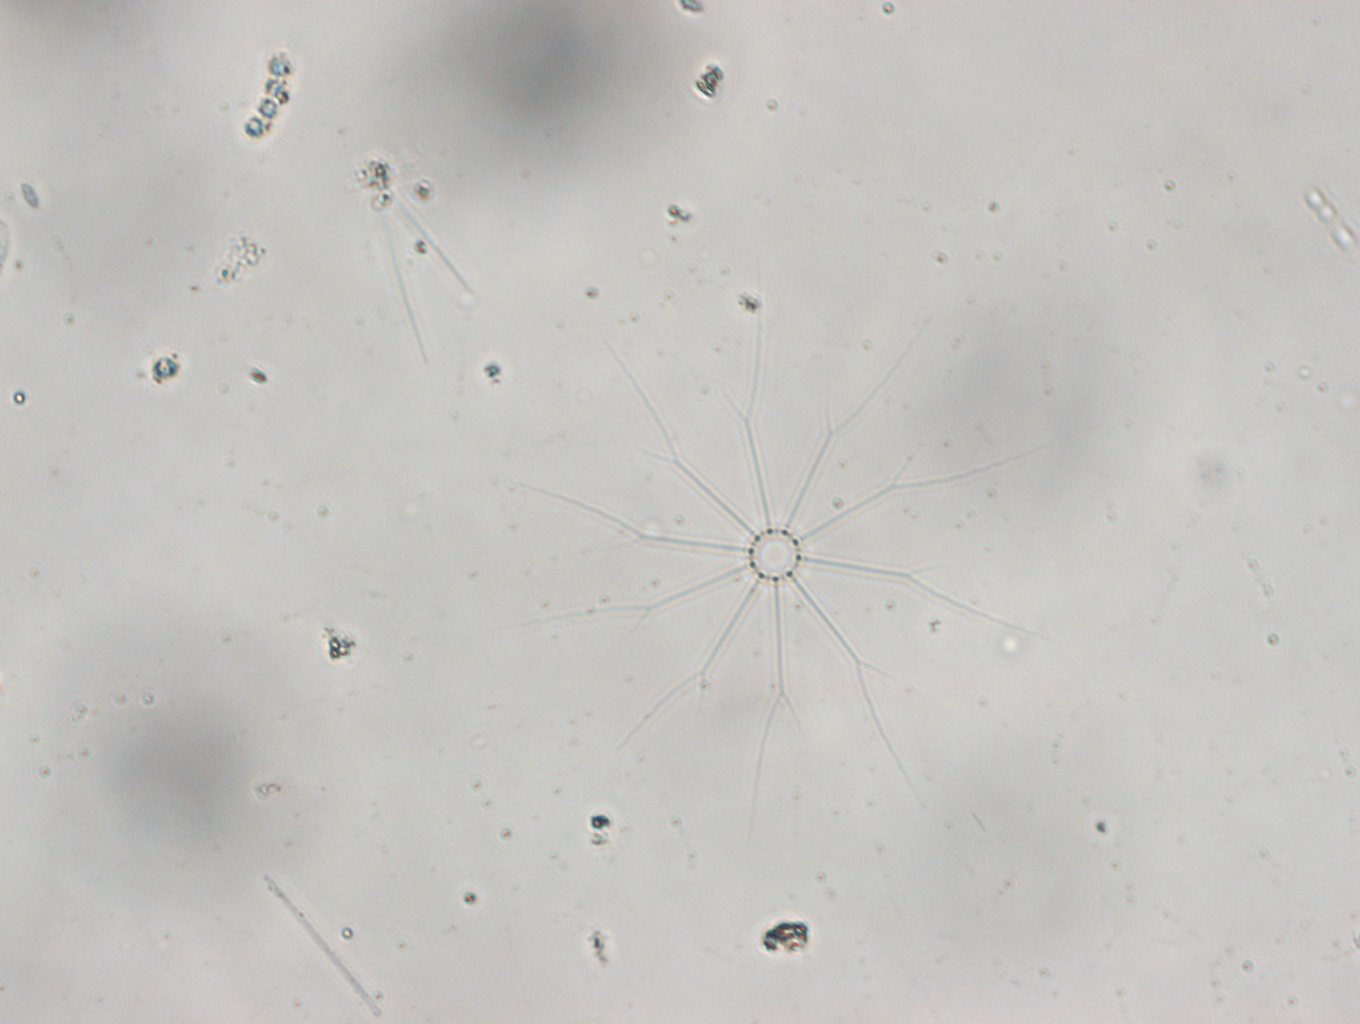bacteriastrum: (497, 288, 1047, 822)
